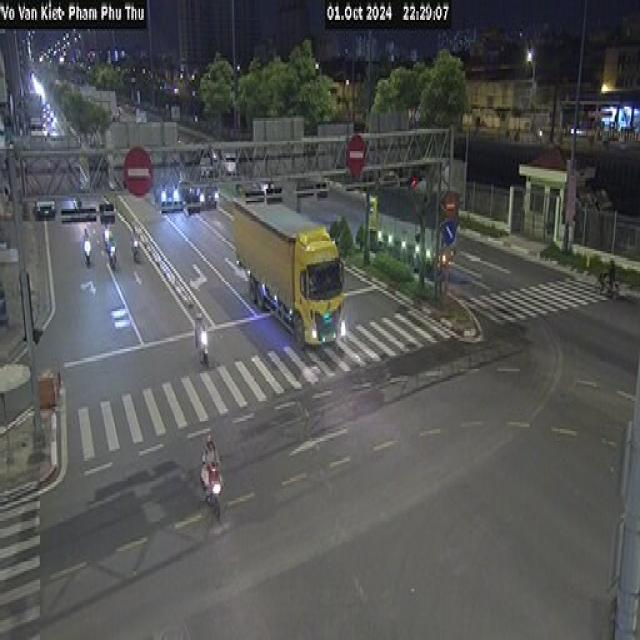motorcycle: (198, 460, 224, 522)
truck: (229, 189, 346, 349)
